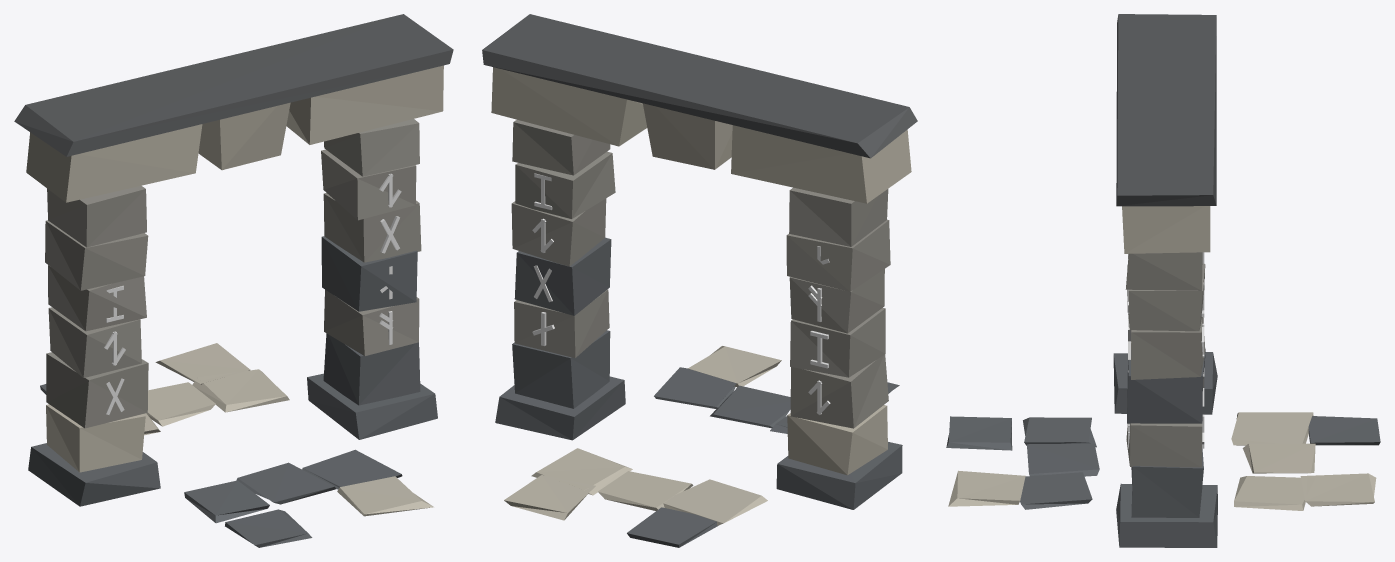
Rendered from SM_Portal.fbx.
The picture shows the model from 3 angles, left to right: view 1: azimuth 30°, elevation 25°; view 2: azimuth 150°, elevation 25°; view 3: azimuth 270°, elevation 25°; orthographic projection. The views are drawn at different scales.
Visible parts, largest first — view 1: SM_Portal, SM_Portal_Runes; view 2: SM_Portal, SM_Portal_Runes; view 3: SM_Portal, SM_Portal_Runes.
Boxes of the visible parts, box(x1,y1,x2,y2) form: SM_Portal: box(14, 14, 453, 547); SM_Portal_Runes: box(104, 173, 401, 414); SM_Portal: box(482, 14, 917, 547); SM_Portal_Runes: box(532, 173, 830, 414); SM_Portal: box(946, 14, 1380, 547); SM_Portal_Runes: box(1128, 252, 1204, 448).
Size of the model in its own units: 5.66 by 5.11 by 5.57.
